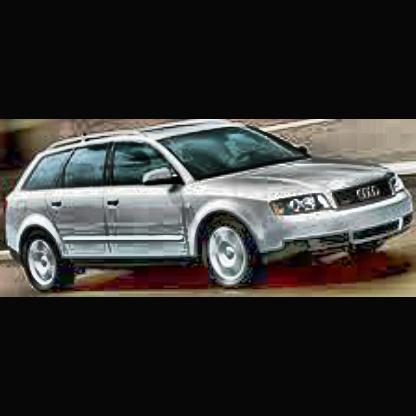Audi 100 Wagon 1994: (2, 125, 416, 295)
